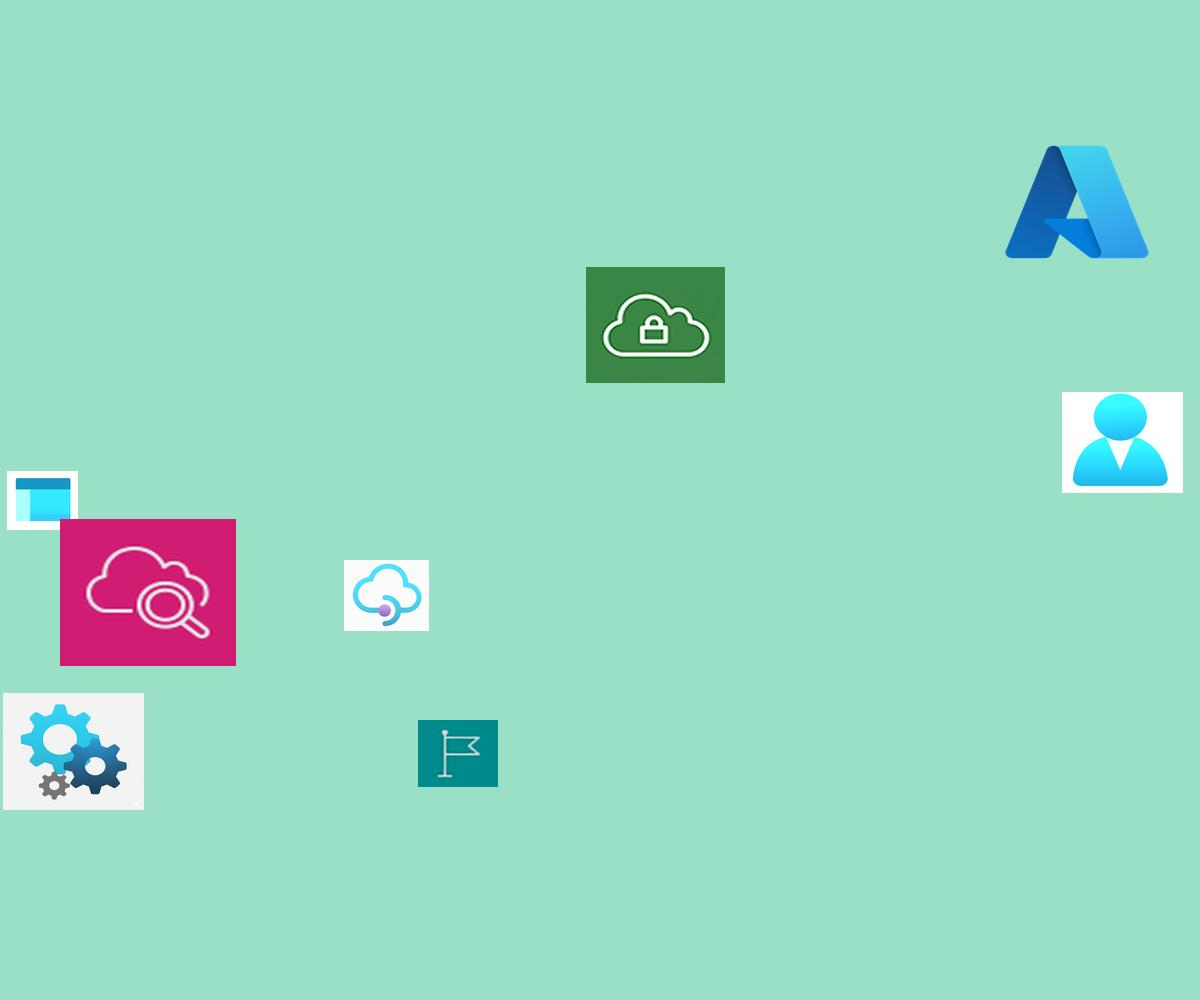AWS-CloudWatch: (60, 519, 236, 666)
AWS-Private_vpc: (586, 267, 725, 383)
AWS-Region: (418, 720, 498, 787)
Azure_api: (3, 693, 144, 810)
Azure_api_gateway: (344, 560, 429, 631)
Azure_management-portal: (7, 471, 78, 530)
Azure_services: (999, 137, 1155, 267)
Azure_users: (1062, 392, 1183, 493)
